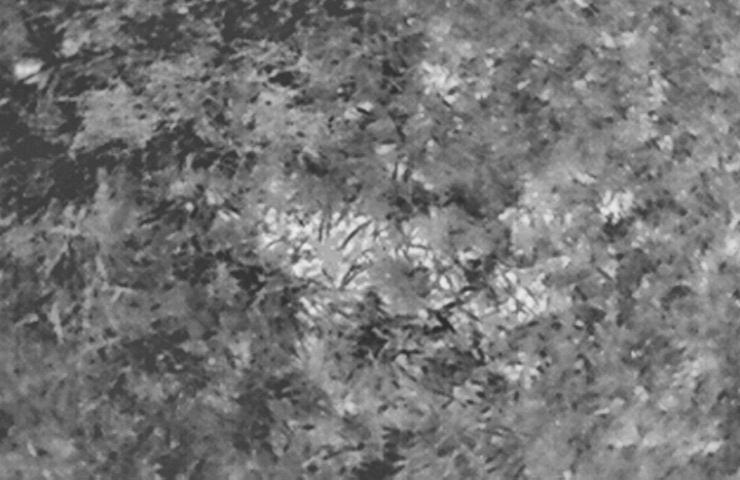landmines: (268, 196, 397, 296)
